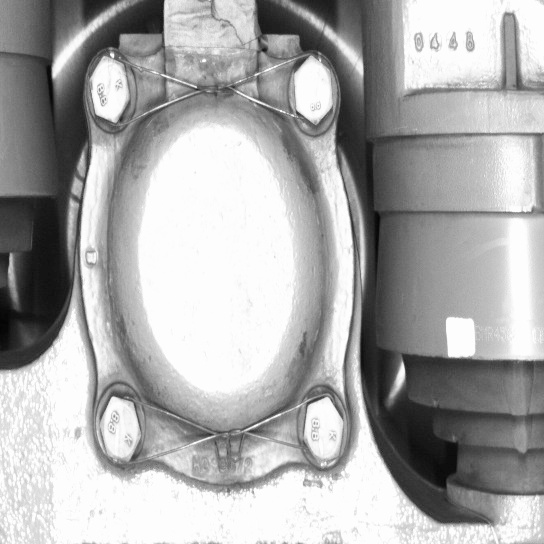IronWire: (93, 386, 348, 472), (82, 49, 339, 132)
Screw: (285, 49, 337, 131), (82, 50, 135, 130), (94, 387, 146, 468), (295, 391, 347, 472)
